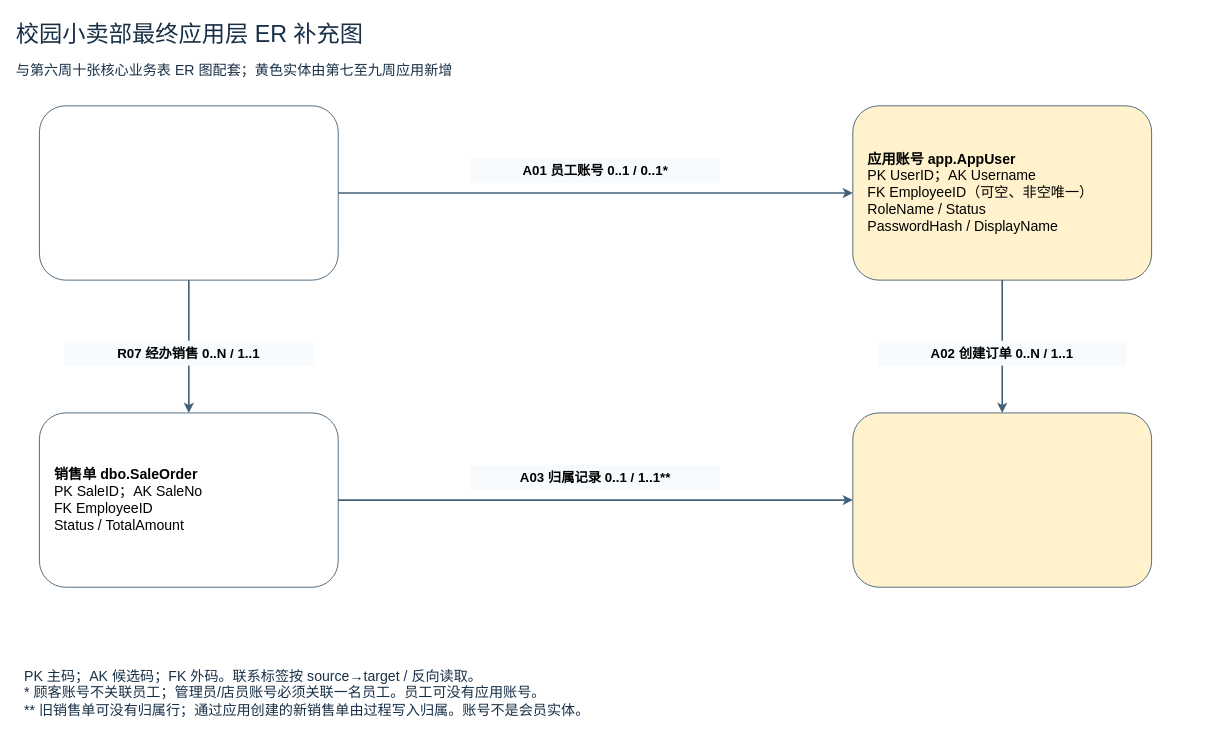
The diagram is 1232 pixels wide and 746 high, and some of its shapes have lost their labels. Here are the shapes that lost their labels. From the top down, the centre of each, then its label:
At (188,192): "员工 Employee PK EmployeeID AK EmployeeNo RoleName / Status".
At (1002,499): "订单归属 app.SaleOwner PK+FK SaleID FK UserID SubmittedAt（可空） CreatedAt".
